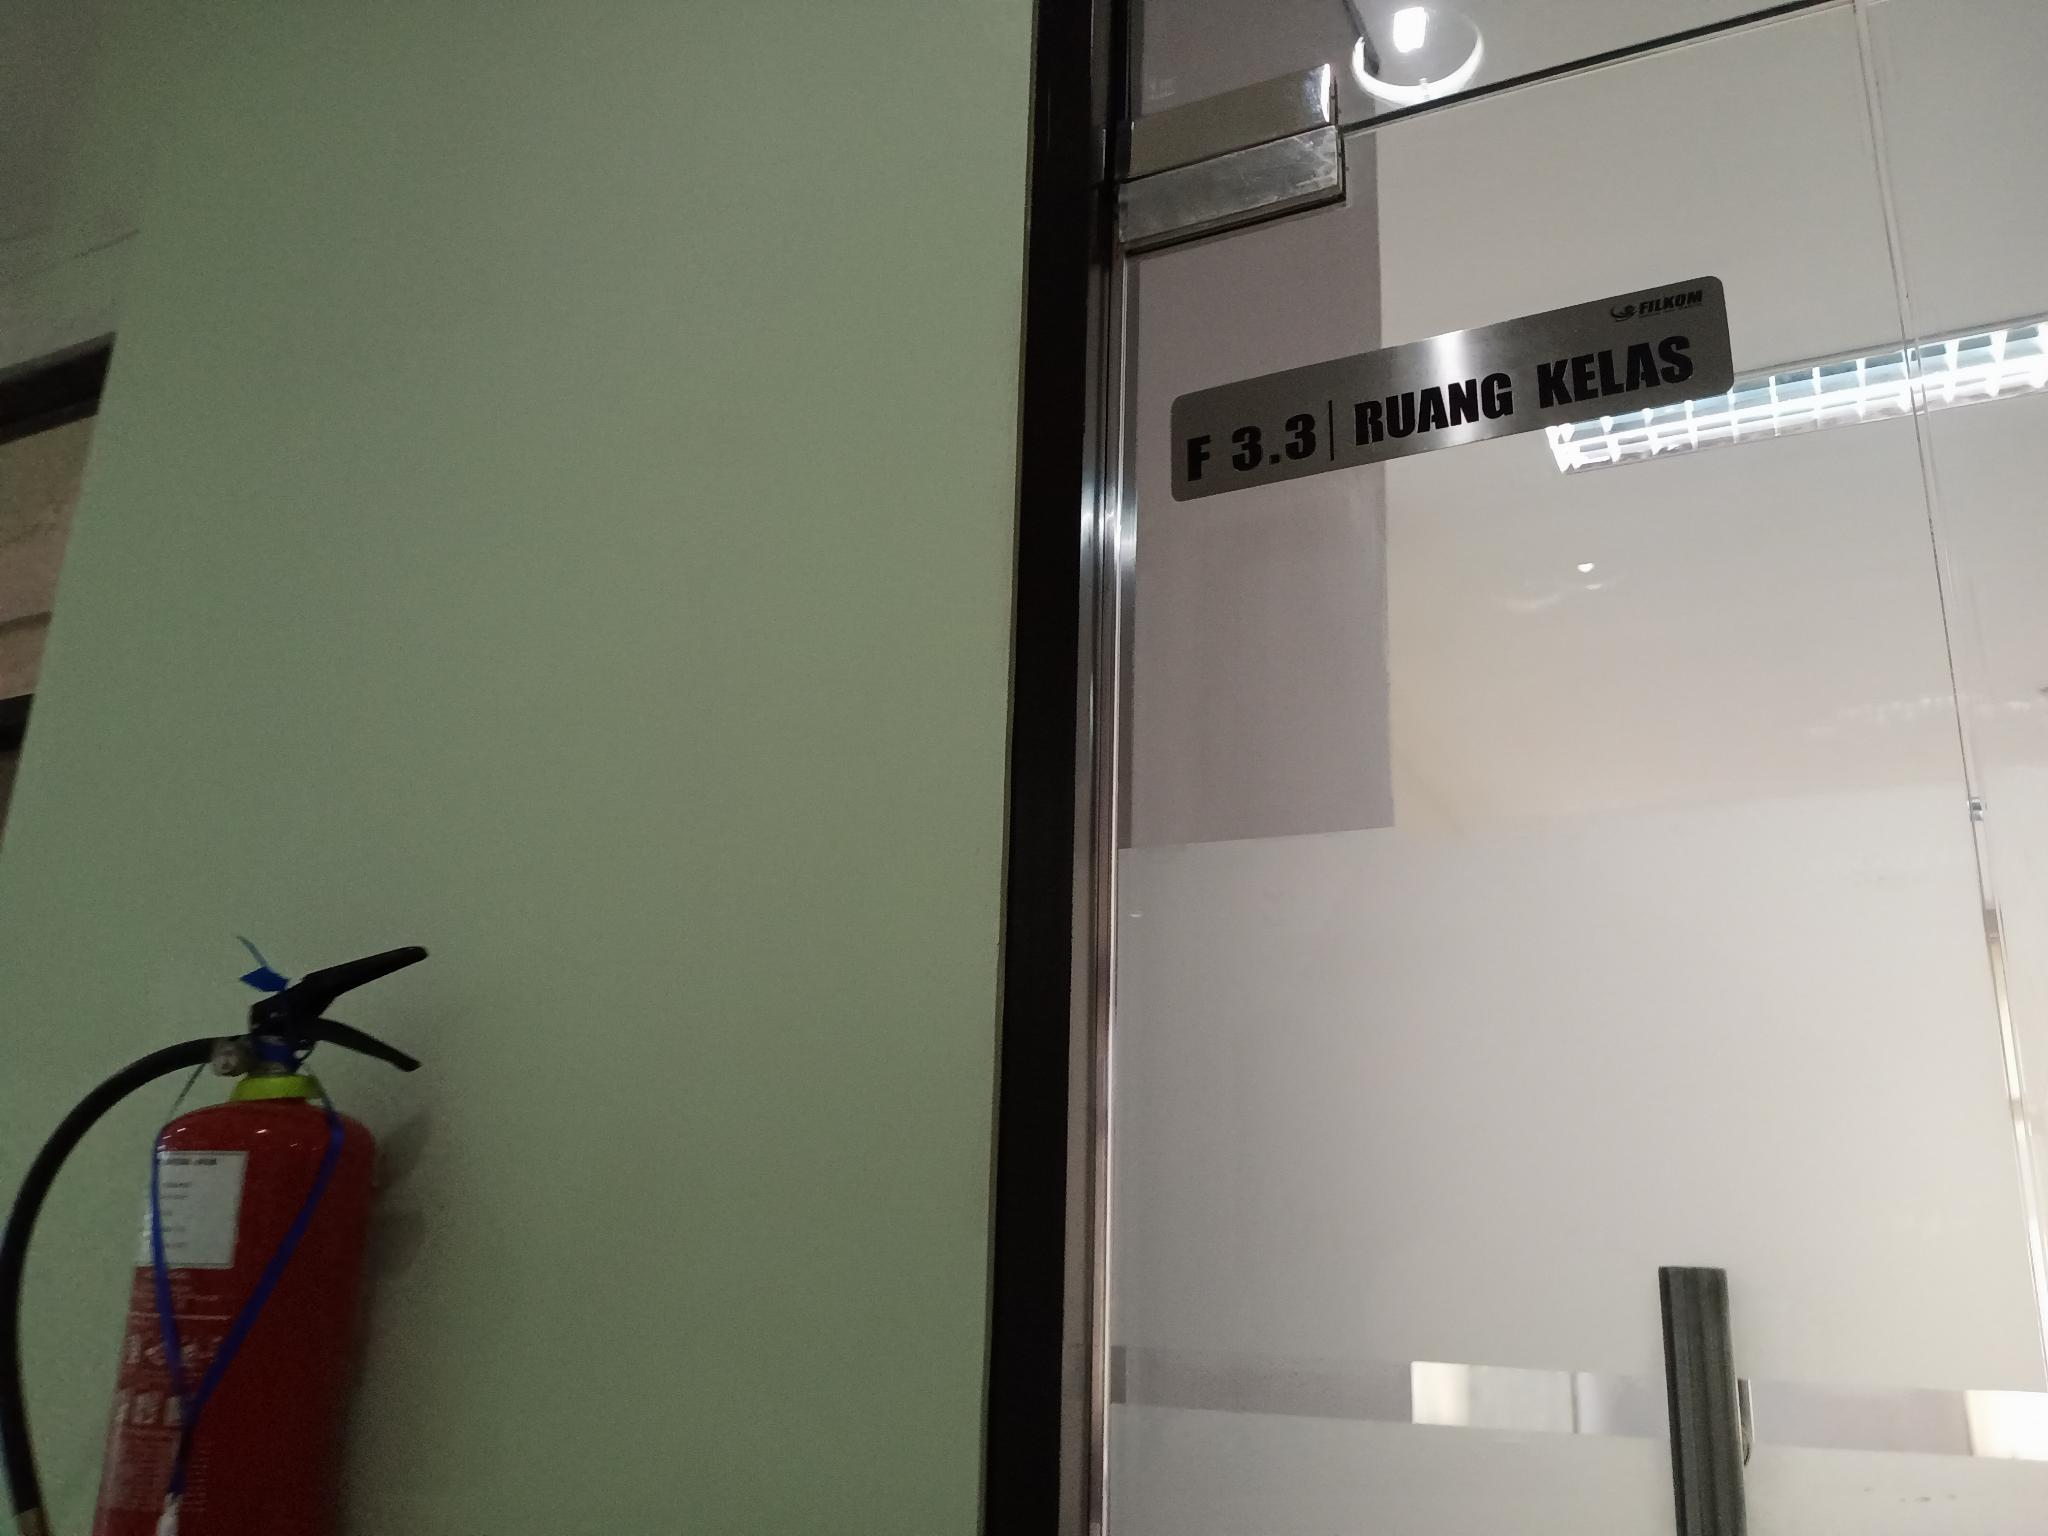plate: (1169, 274, 1738, 503)
